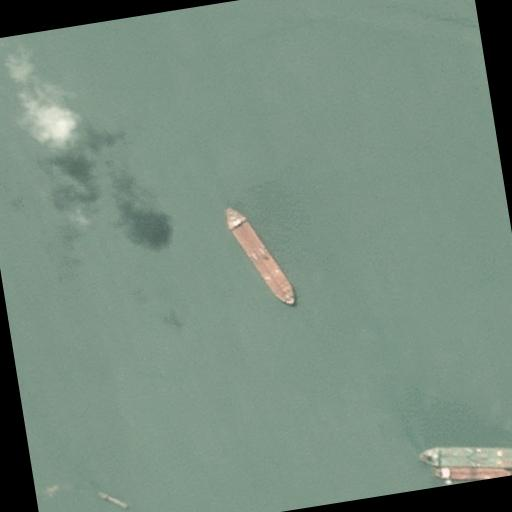ship: (220, 200, 292, 312), (412, 431, 512, 484), (428, 456, 512, 487), (26, 0, 51, 103)
